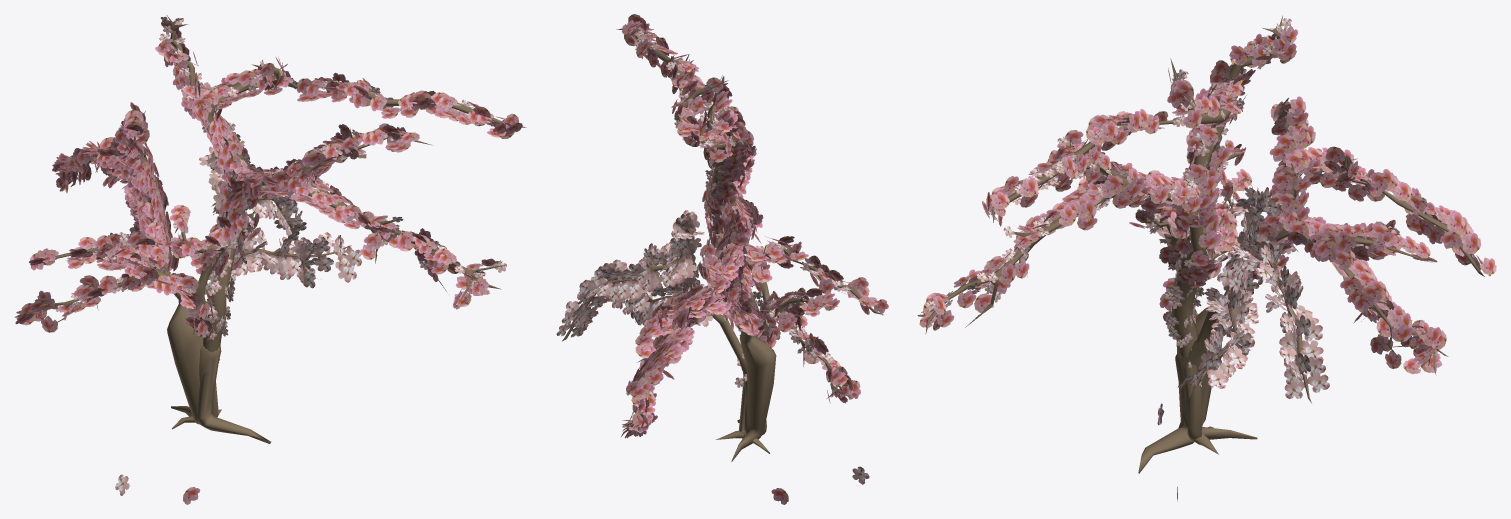
File: tree-sakura-hero.glb
3 renders of one model, left to right at view 1: azimuth 30°, elevation 25°; view 2: azimuth 150°, elevation 25°; view 3: azimuth 270°, elevation 25°, orthographic. The views are drawn at different scales.
Visible parts, largest first — view 1: tree-sakura-hero; view 2: tree-sakura-hero; view 3: tree-sakura-hero.
Boxes of the visible parts, bbox=[...] form: tree-sakura-hero: bbox=[14, 15, 526, 504]; tree-sakura-hero: bbox=[556, 14, 888, 504]; tree-sakura-hero: bbox=[917, 15, 1496, 501].
Size of the model in its own units: 8.21 by 9 by 9.4.
3 materials, 3 textured.
